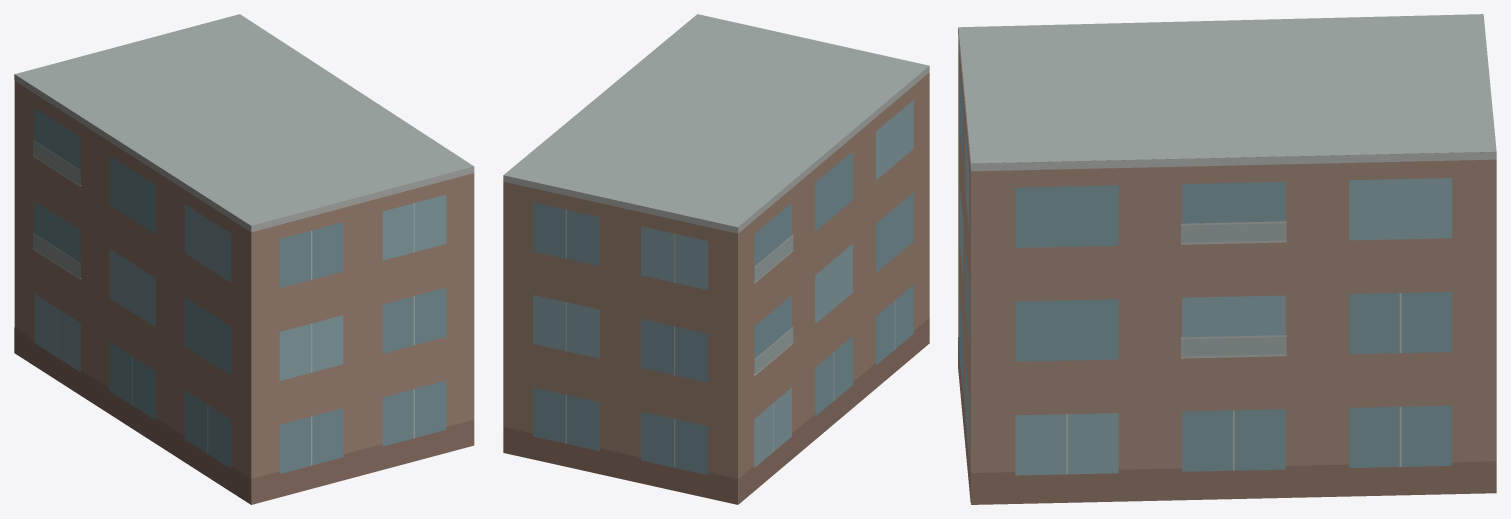
File: survey-upis-32475017.glb
The picture shows the model from 3 angles, left to right: view 1: azimuth 30°, elevation 25°; view 2: azimuth 150°, elevation 25°; view 3: azimuth 270°, elevation 25°; orthographic projection. The views are drawn at different scales.
Parts seen in each view (by area): view 1: survey-upis-32475017.tmp; view 2: survey-upis-32475017.tmp; view 3: survey-upis-32475017.tmp.
Boxes of the visible parts, <box> form: survey-upis-32475017.tmp: <box>14,14,474,504</box>; survey-upis-32475017.tmp: <box>503,14,929,504</box>; survey-upis-32475017.tmp: <box>958,14,1496,504</box>.
Bounding box in the file's own units: 9.87 × 10.5 × 15.02.
